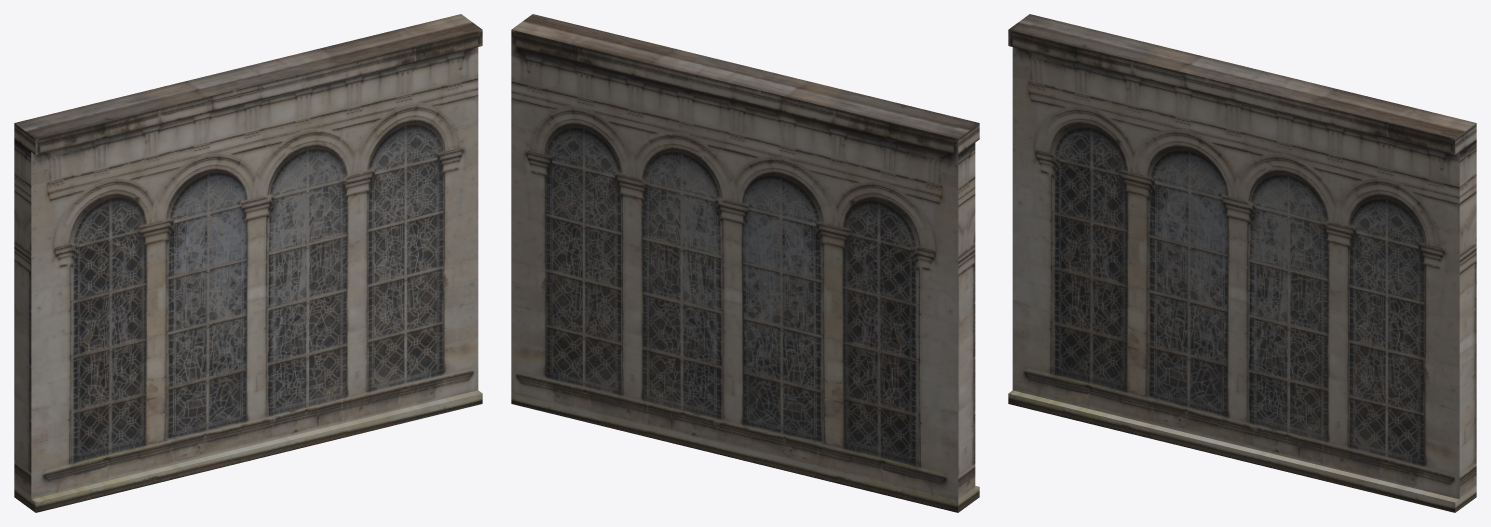
The model's file is Windows.FBX.
3 views of the same model, side by side, from view 1: azimuth 30°, elevation 25°; view 2: azimuth 150°, elevation 25°; view 3: azimuth 330°, elevation 25° (orthographic).
Parts seen in each view (by area): view 1: Windows; view 2: Windows; view 3: Windows.
Part boxes in pixels (<box>): Windows: <box>14,14,482,512</box>; Windows: <box>511,14,979,512</box>; Windows: <box>1008,14,1476,512</box>.
Size of the model in its own units: 960 by 768 by 80.
